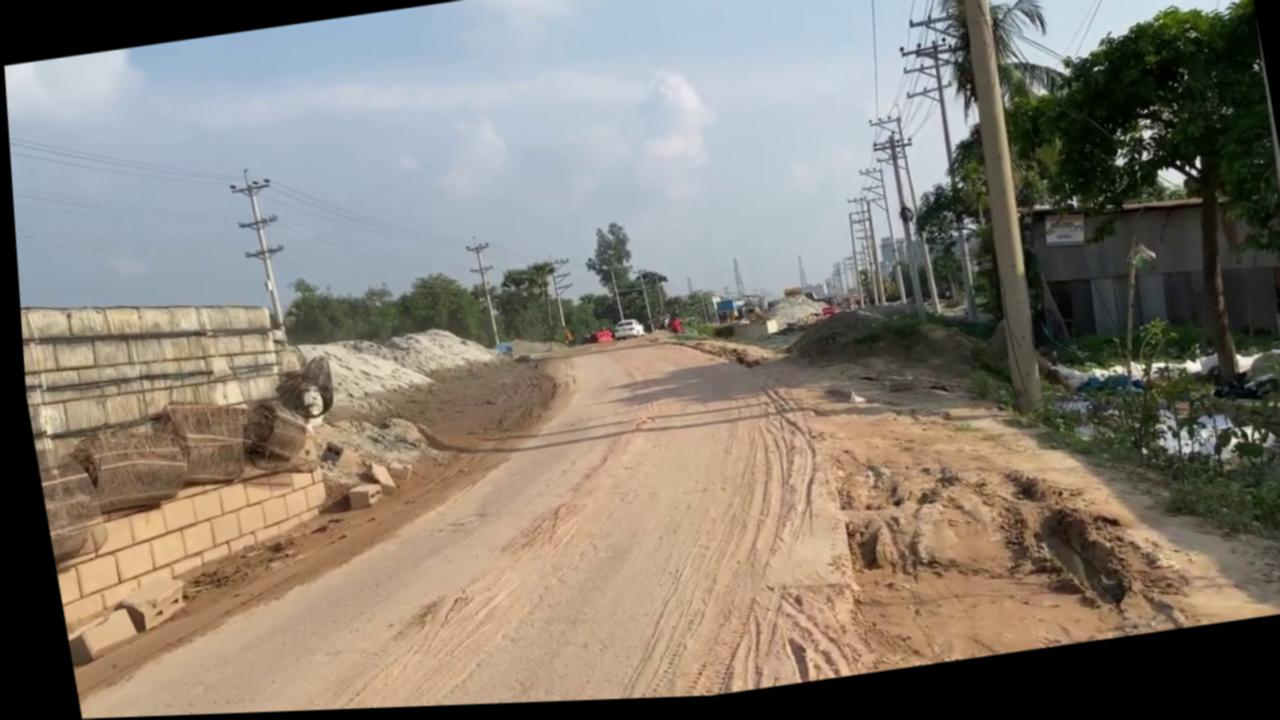Car: (606, 321, 641, 345)
Garbage: (20, 360, 351, 570)
Muddy road: (19, 249, 1280, 720)
Pole: (934, 0, 1055, 425), (896, 42, 1003, 333)
Traffic-sign: (986, 0, 1280, 417), (575, 223, 638, 330)
Tree: (701, 259, 765, 333), (708, 297, 764, 332)
Upstairs: (14, 266, 338, 639)
